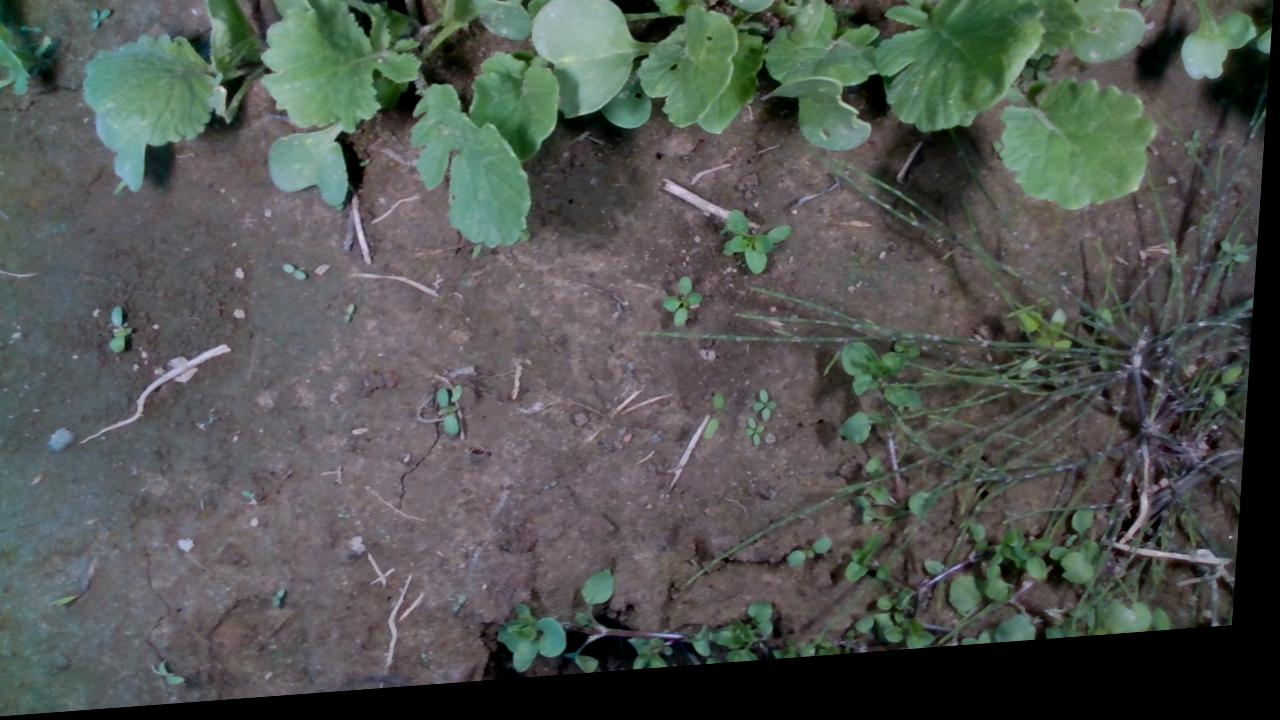weed: (664, 284, 708, 338), (112, 304, 137, 355), (708, 398, 731, 452), (166, 662, 195, 690), (283, 265, 310, 286), (89, 6, 111, 30), (278, 590, 294, 612), (346, 306, 360, 330)
